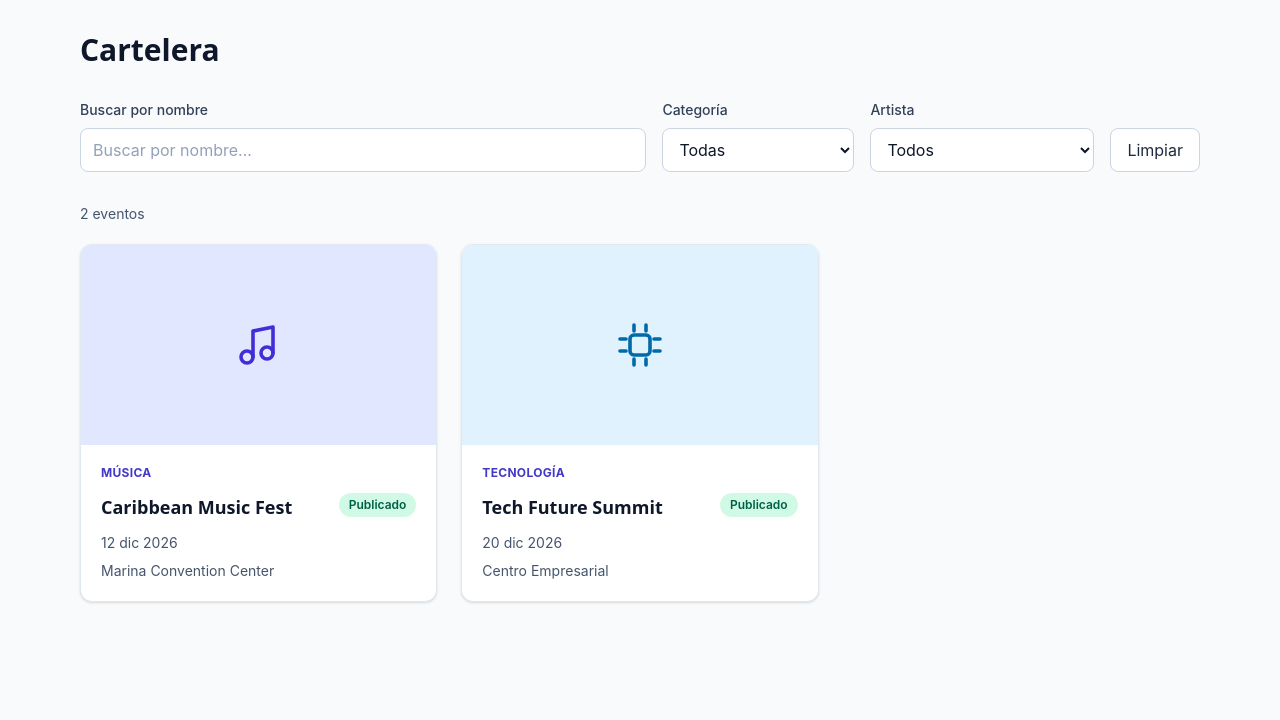
it: CatalogoEventos › consulta eventos por artista cuando se selecciona un artista
The image size is (1280, 720).
Check: the heading "Caribbean Music Fest" is shown, box [101, 493, 292, 521]
Select "Solar Beat" in the dropdown labelled "Artista": x=982, y=150 [870, 128, 1094, 172]
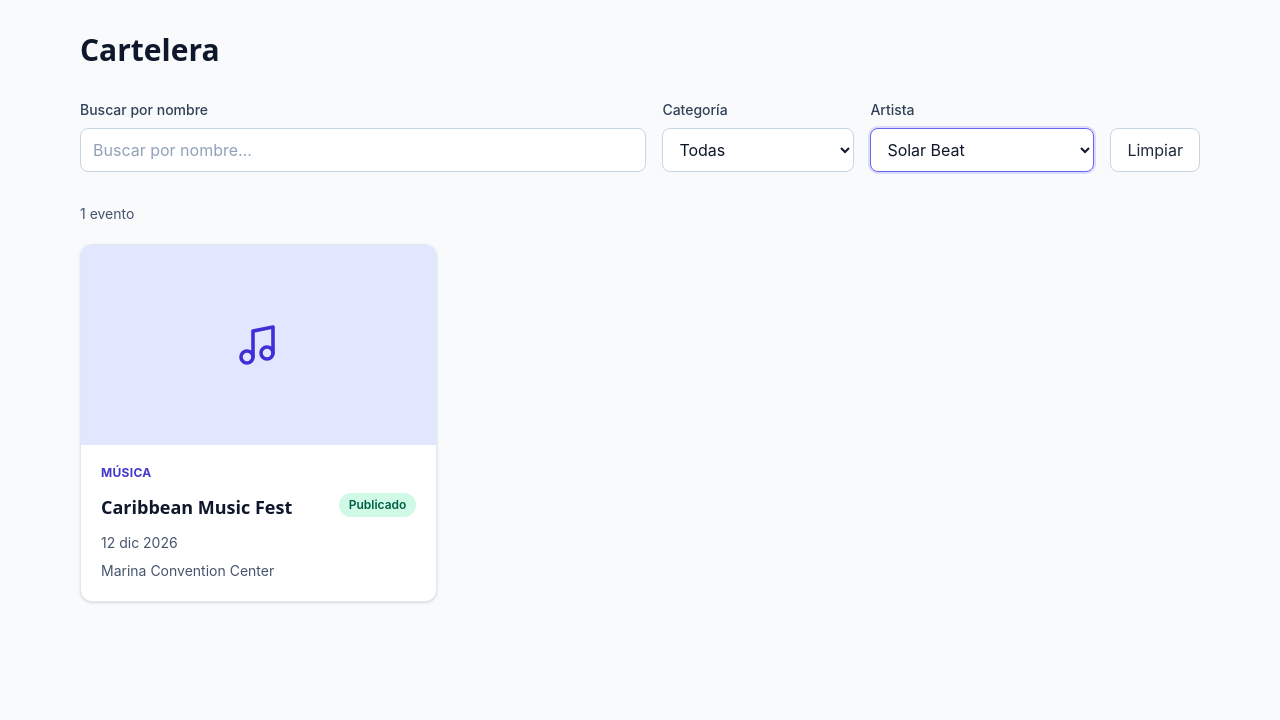
Check: the text "1 evento" is shown, box [80, 205, 134, 222]
